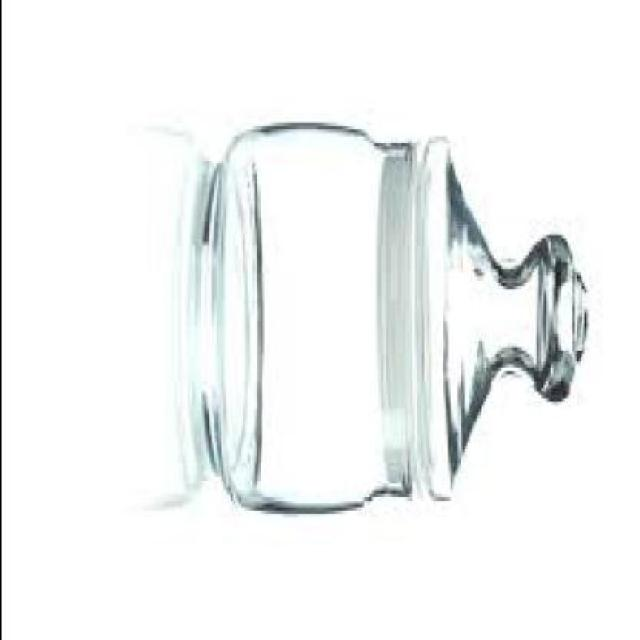GLASS: (198, 122, 592, 507)
